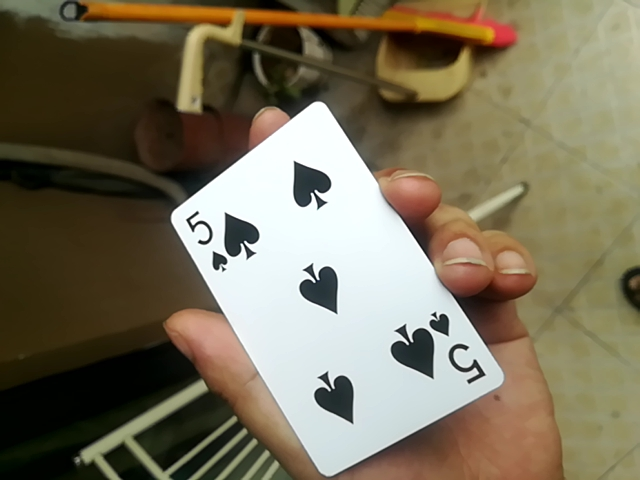ht 5: (157, 98, 491, 480)
